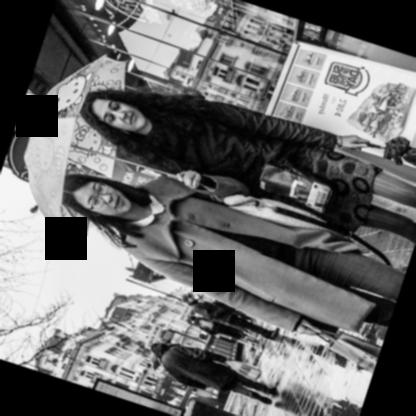backpack: (197, 317, 218, 329)
handbag: (226, 194, 395, 267), (255, 161, 335, 214), (315, 329, 382, 373)
